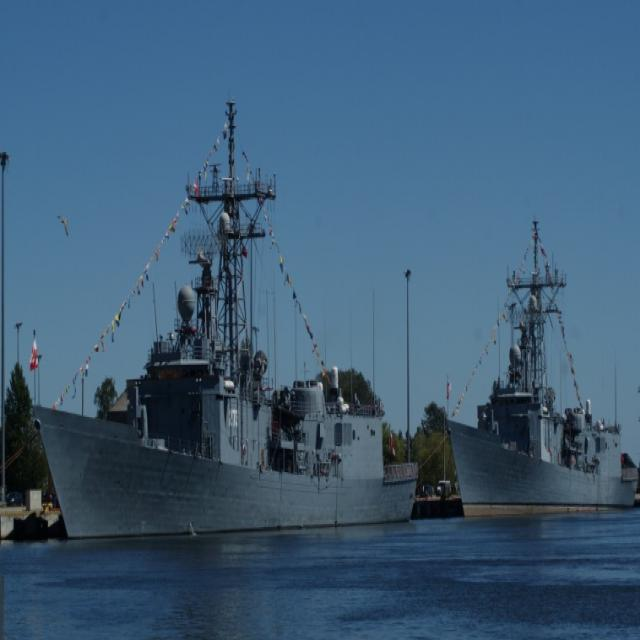Fragata: (31, 85, 421, 547), (436, 200, 640, 525)
